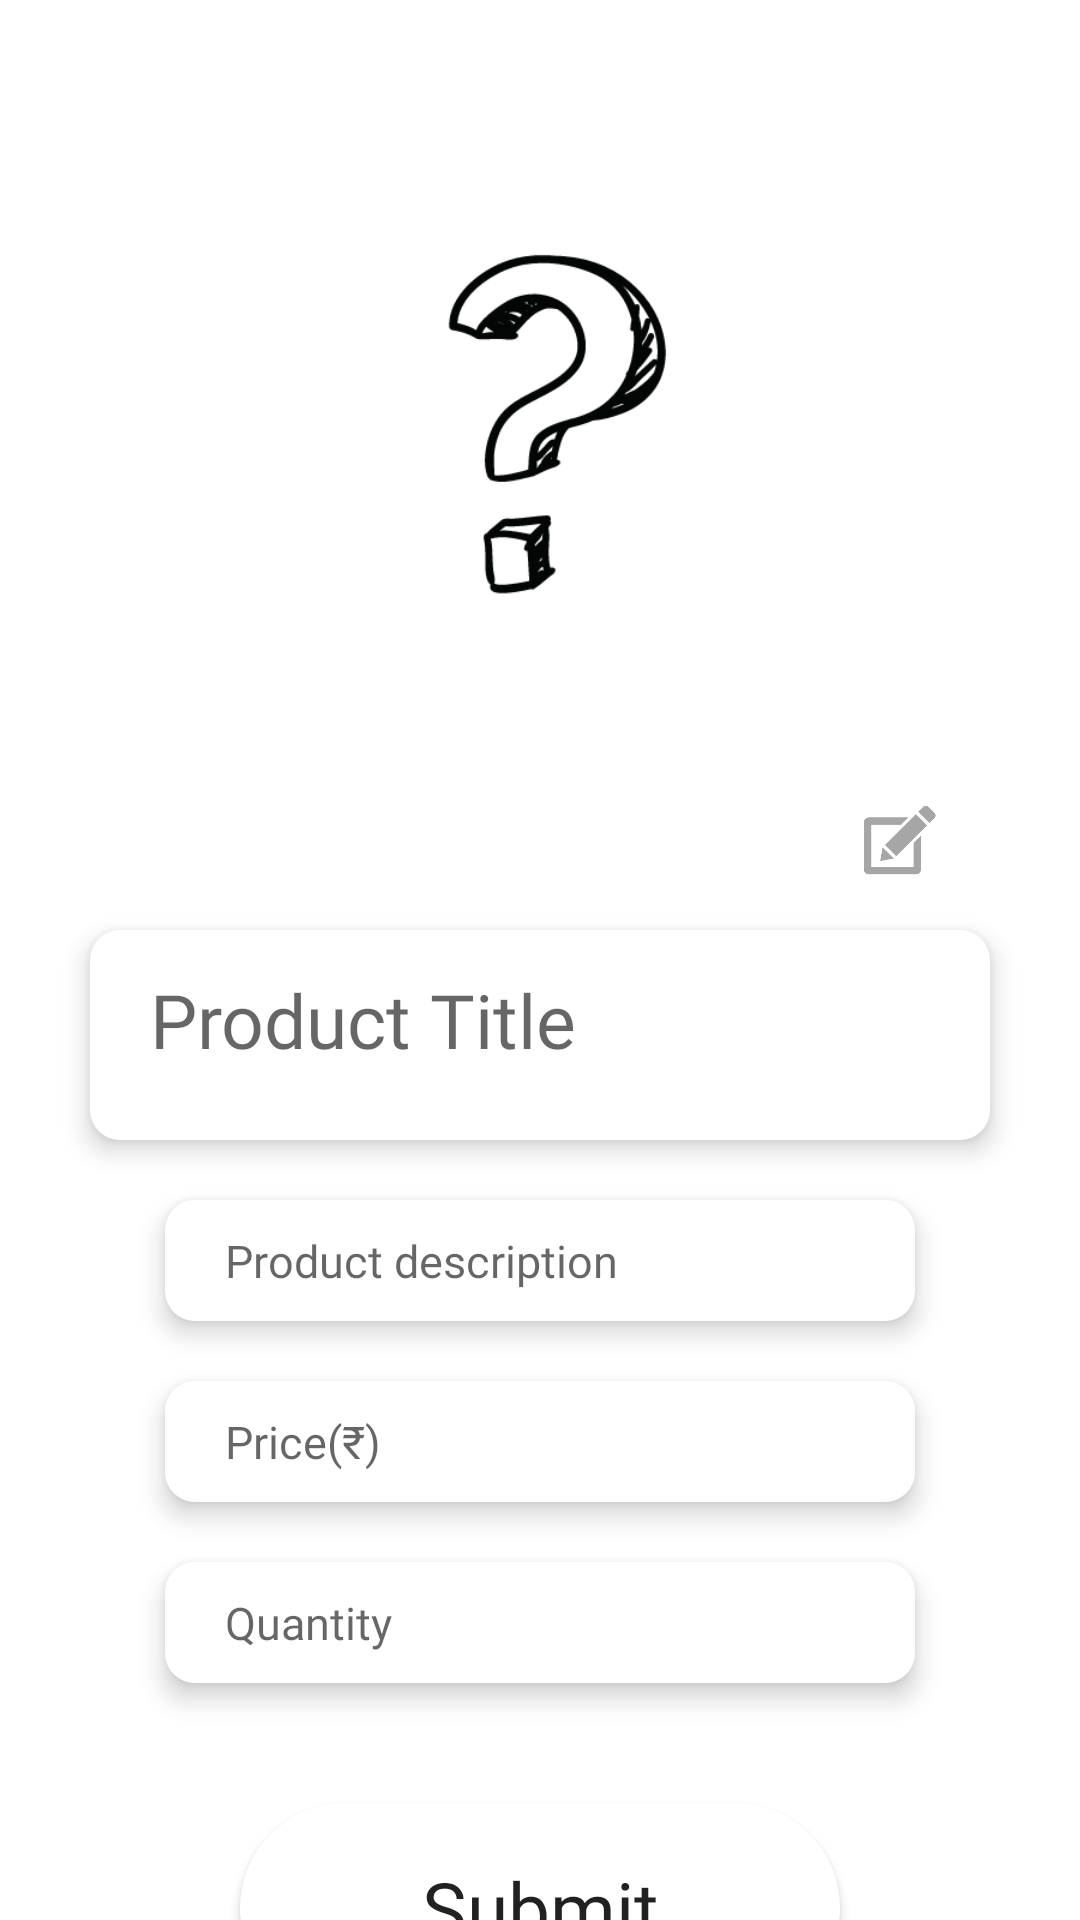

Icons on this 1080x1920 Android screen, each with the point to tap as (x=x, y=y):
edit: (x=900, y=840)
